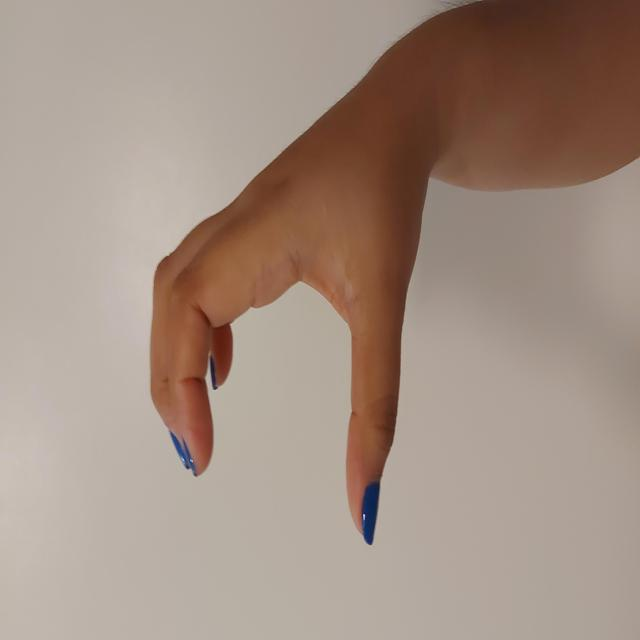C: (94, 148, 566, 431)
